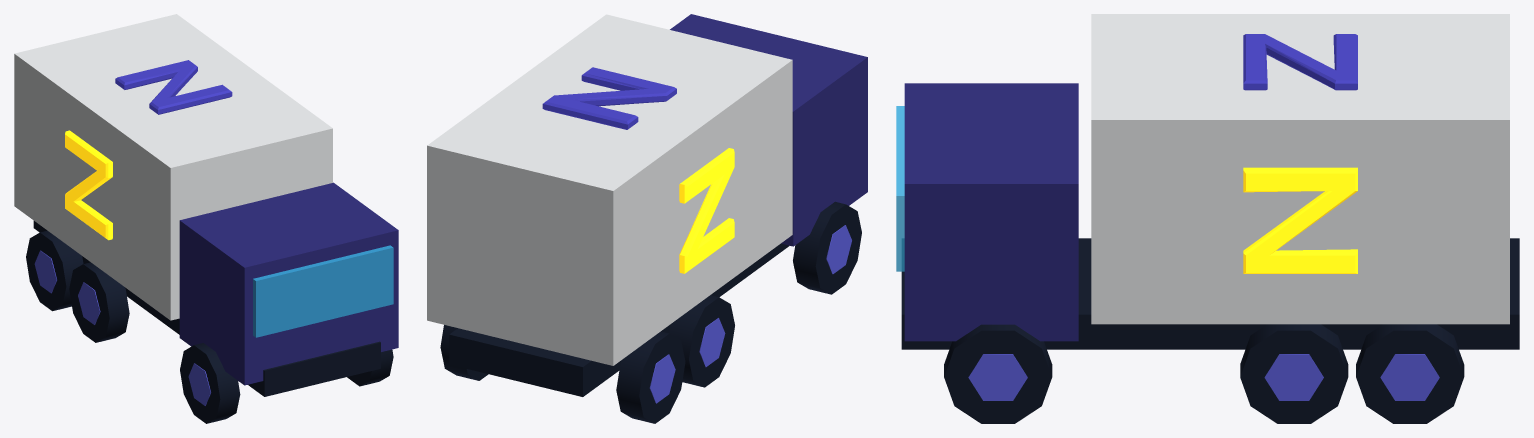
File: zaldi-truck-lowpoly.glb
3 views of the same model, side by side, from view 1: azimuth 30°, elevation 25°; view 2: azimuth 150°, elevation 25°; view 3: azimuth 270°, elevation 25° (orthographic). The views are drawn at different scales.
Visible parts, largest first — view 1: Zaldi_LowPoly_Truck; view 2: Zaldi_LowPoly_Truck; view 3: Zaldi_LowPoly_Truck.
Part boxes in pixels (x1,y1,x2,y2): Zaldi_LowPoly_Truck: (14, 14, 398, 423); Zaldi_LowPoly_Truck: (427, 14, 867, 423); Zaldi_LowPoly_Truck: (896, 14, 1519, 423).
Size of the model in its own units: 1.1 by 1.37 by 2.5.
